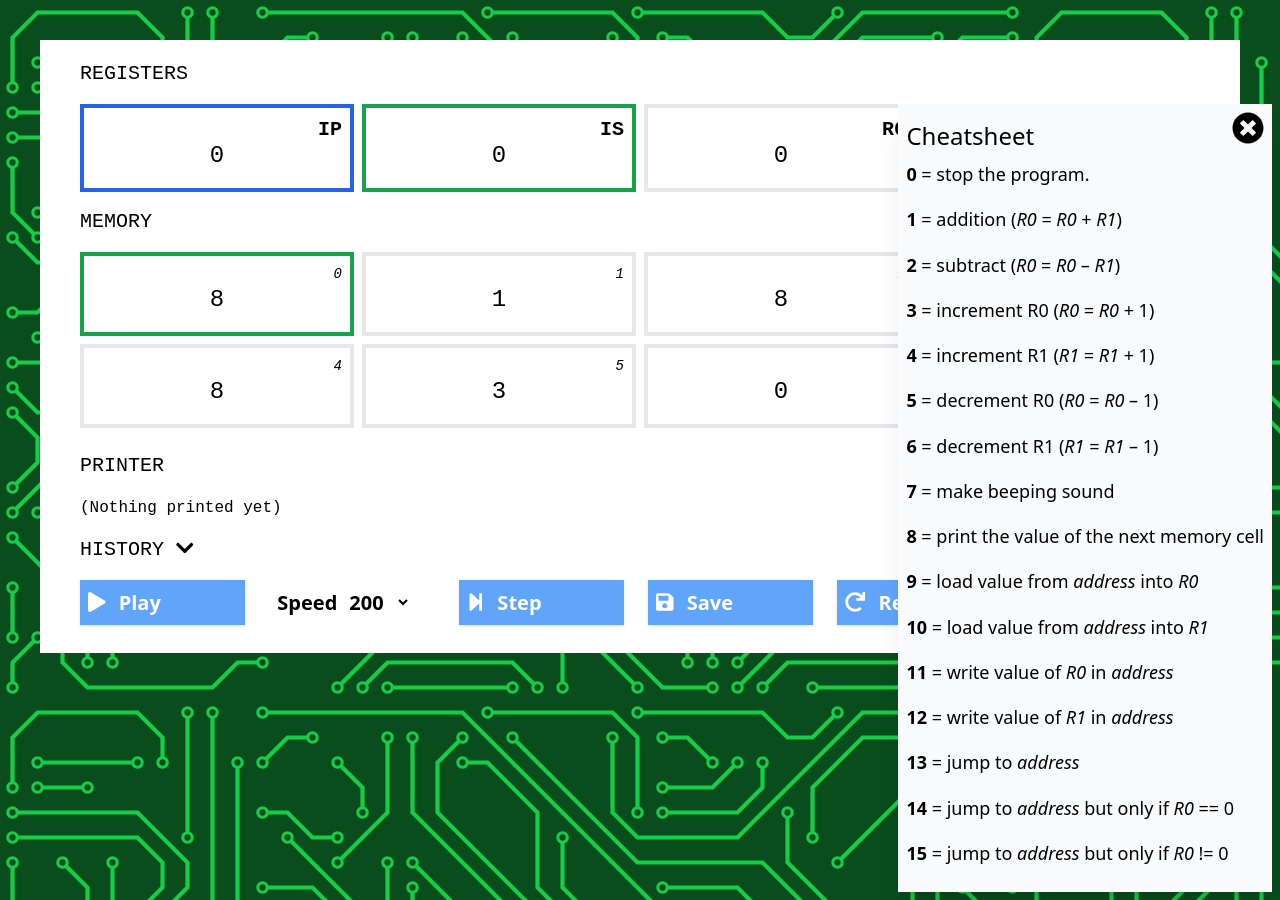
FantasyCpu component › should when the speed is toggled speed up the programs execution
The width and height of the screenshot is (1280, 900).
Select "50" in the dropdown: (378, 602) [345,588,411,617]
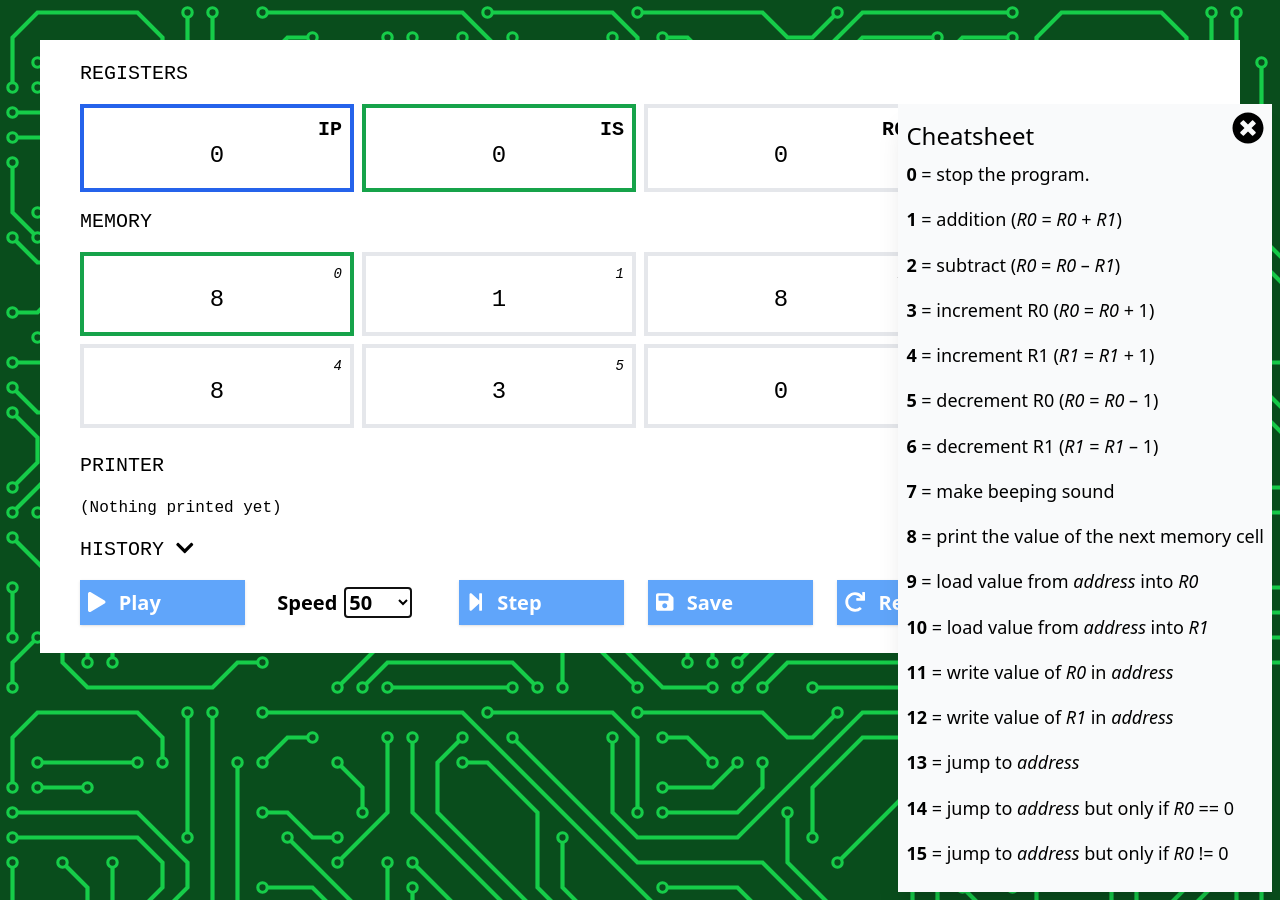
Click the button "Play": click(163, 602) [80,580,245,625]
Wait 100 ms
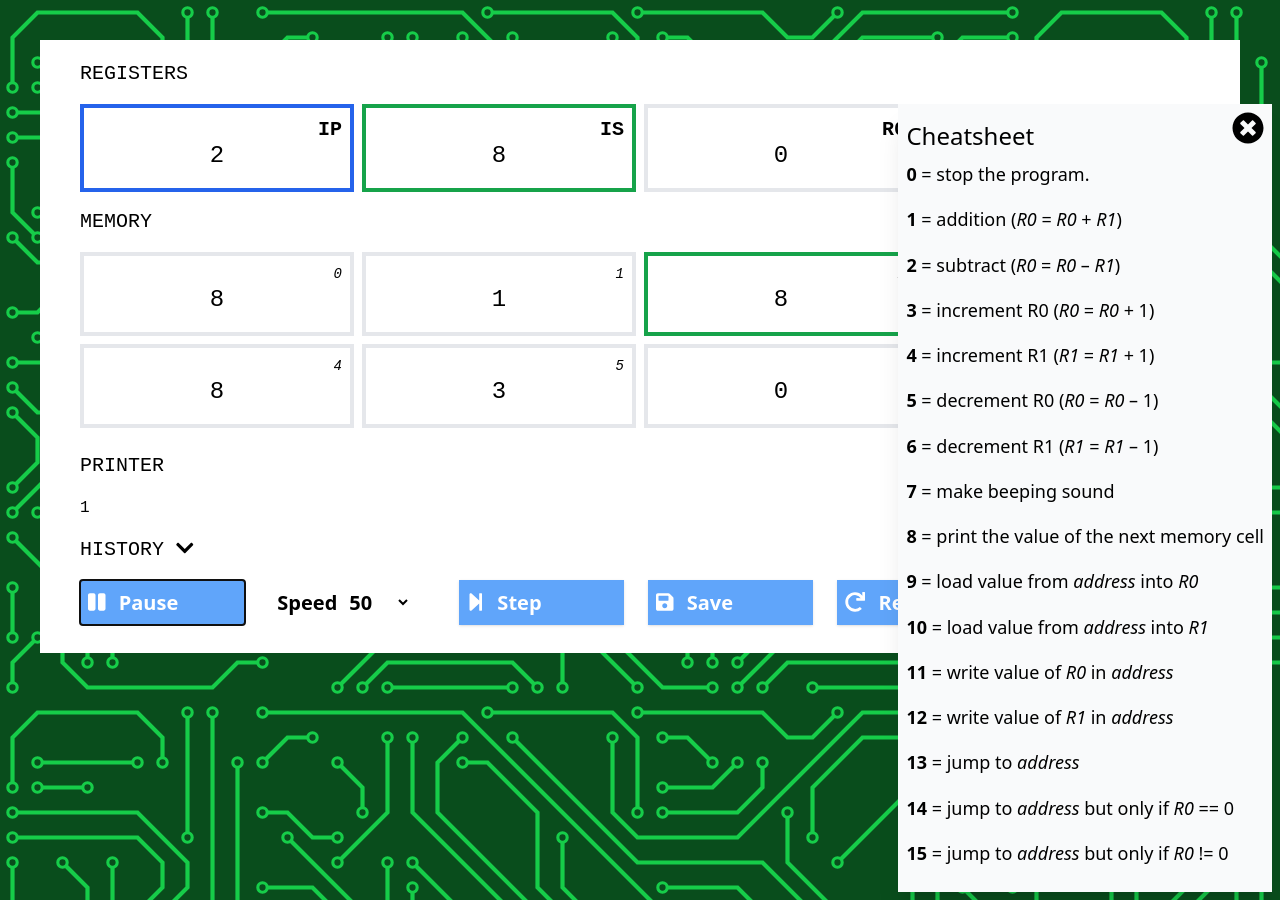
Expected: the text with test id "line" reads "1", [80,499,90,517]
Speed up the program
Select "1" in the dropdown: (378, 602) [345,588,411,617]
Wait 2 ms
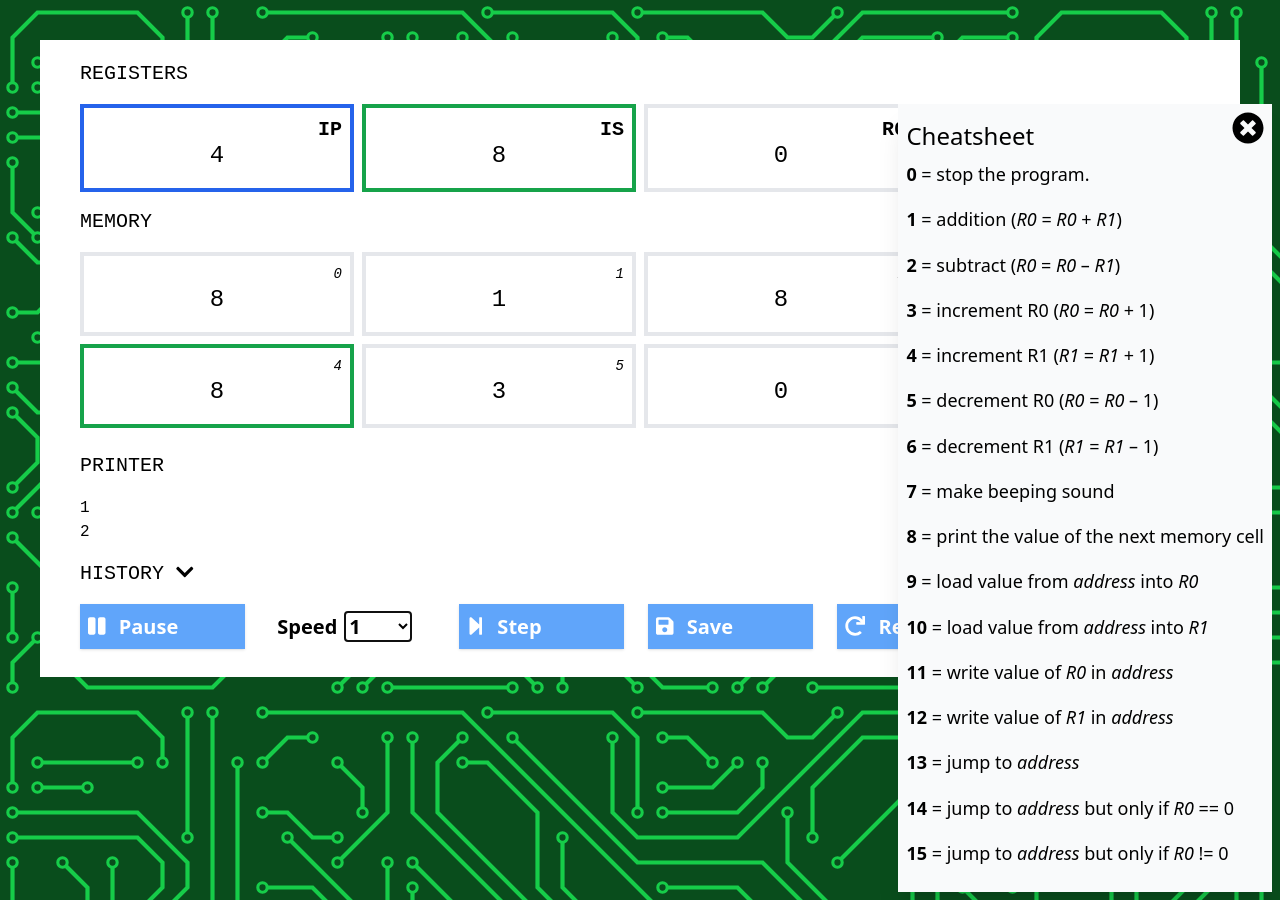
Expected: the text with test id "line" below "printer" reads "1", [80,499,90,517]
Expected: the text with test id "line" below "printer" reads "2", [80,523,90,541]
Slow down up the program
Select "1000" in the dropdown: (378, 626) [345,612,411,641]
Wait 2000 ms
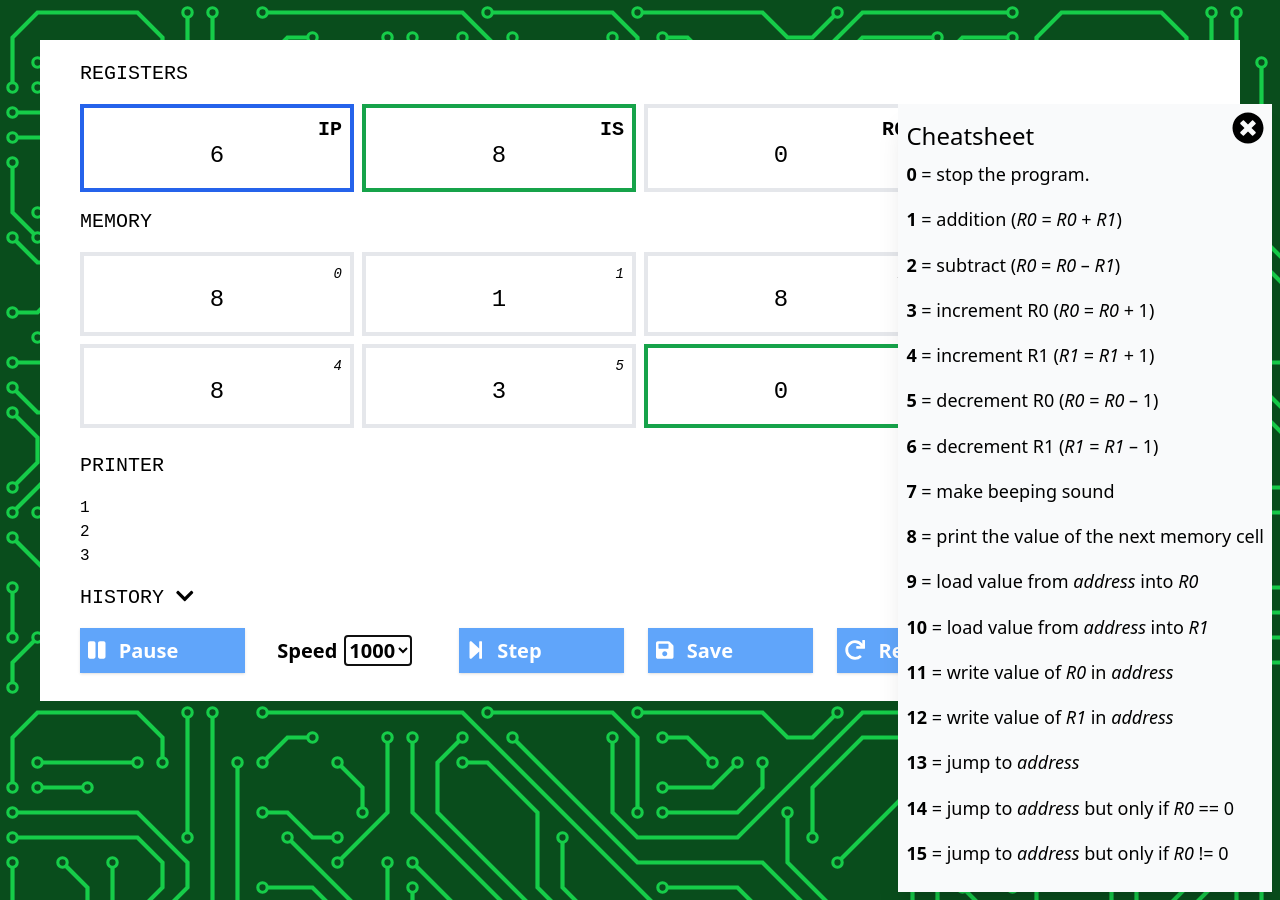
Expected: the text with test id "line" below "printer" reads "1", [80,499,90,517]
Expected: the text with test id "line" below "printer" reads "2", [80,523,90,541]
Expected: the text with test id "line" below "printer" reads "3", [80,547,90,565]
